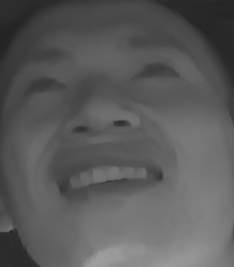eye: (129, 55, 181, 93), (22, 67, 72, 104)
mouth: (47, 145, 165, 208)
